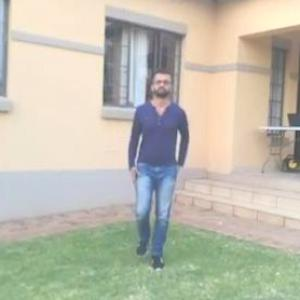follow: (129, 61, 189, 241)
